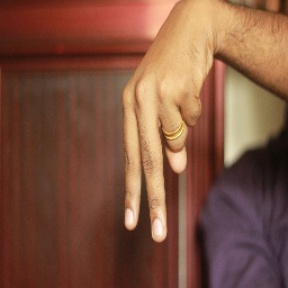Y: (113, 48, 210, 248)
